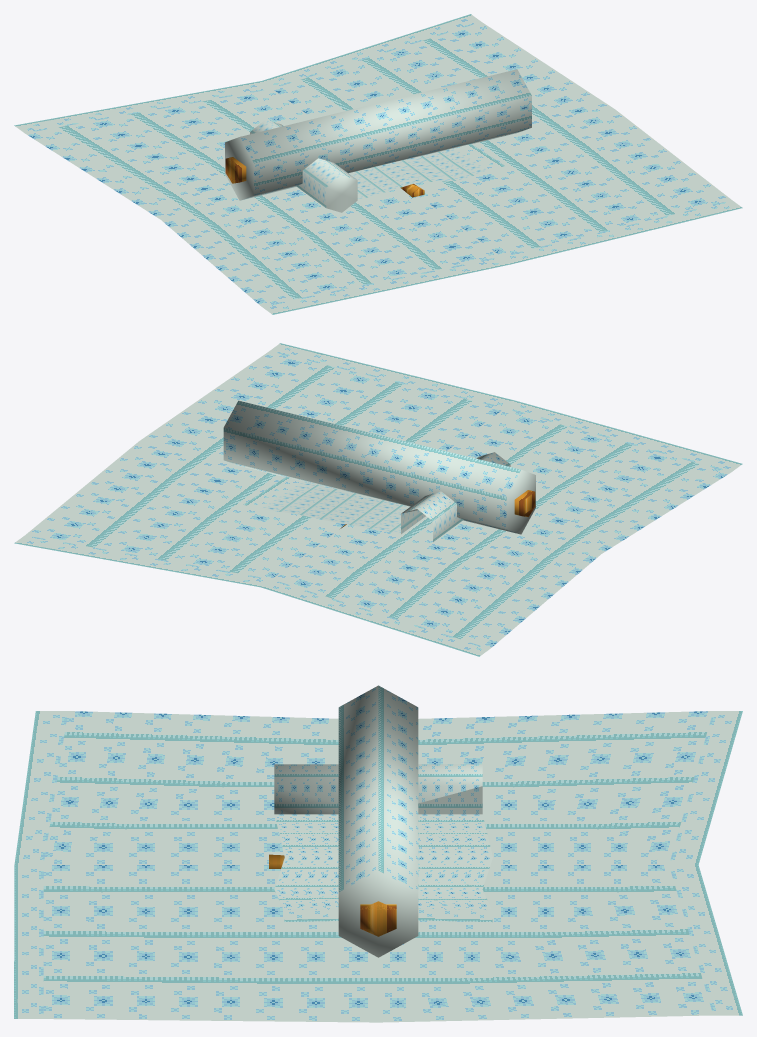
The model's file is 5272ucc_nunoji00.gltf.
The picture shows the model from 3 angles, top to bottom: view 1: azimuth 30°, elevation 25°; view 2: azimuth 150°, elevation 25°; view 3: azimuth 270°, elevation 25°; orthographic projection. The views are drawn at different scales.
Visible parts, largest first — view 1: 5272ucc_nunoji00; view 2: 5272ucc_nunoji00; view 3: 5272ucc_nunoji00.
Part boxes in pixels (box(x1,y1,x2,y2)): 5272ucc_nunoji00: box(14, 14, 742, 314); 5272ucc_nunoji00: box(14, 343, 742, 656); 5272ucc_nunoji00: box(14, 685, 742, 1022).
Bounding box in the file's own units: 2.02 × 0.2949 × 2.
Materials: 2 (2 with a texture image).
